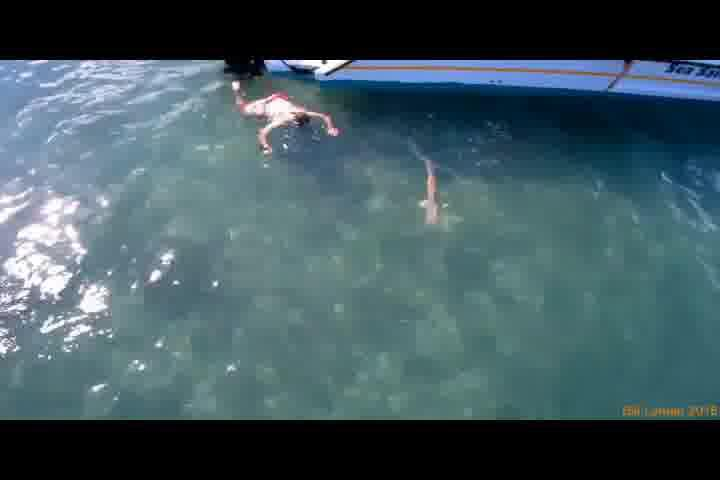swimmer: (230, 84, 340, 158)
